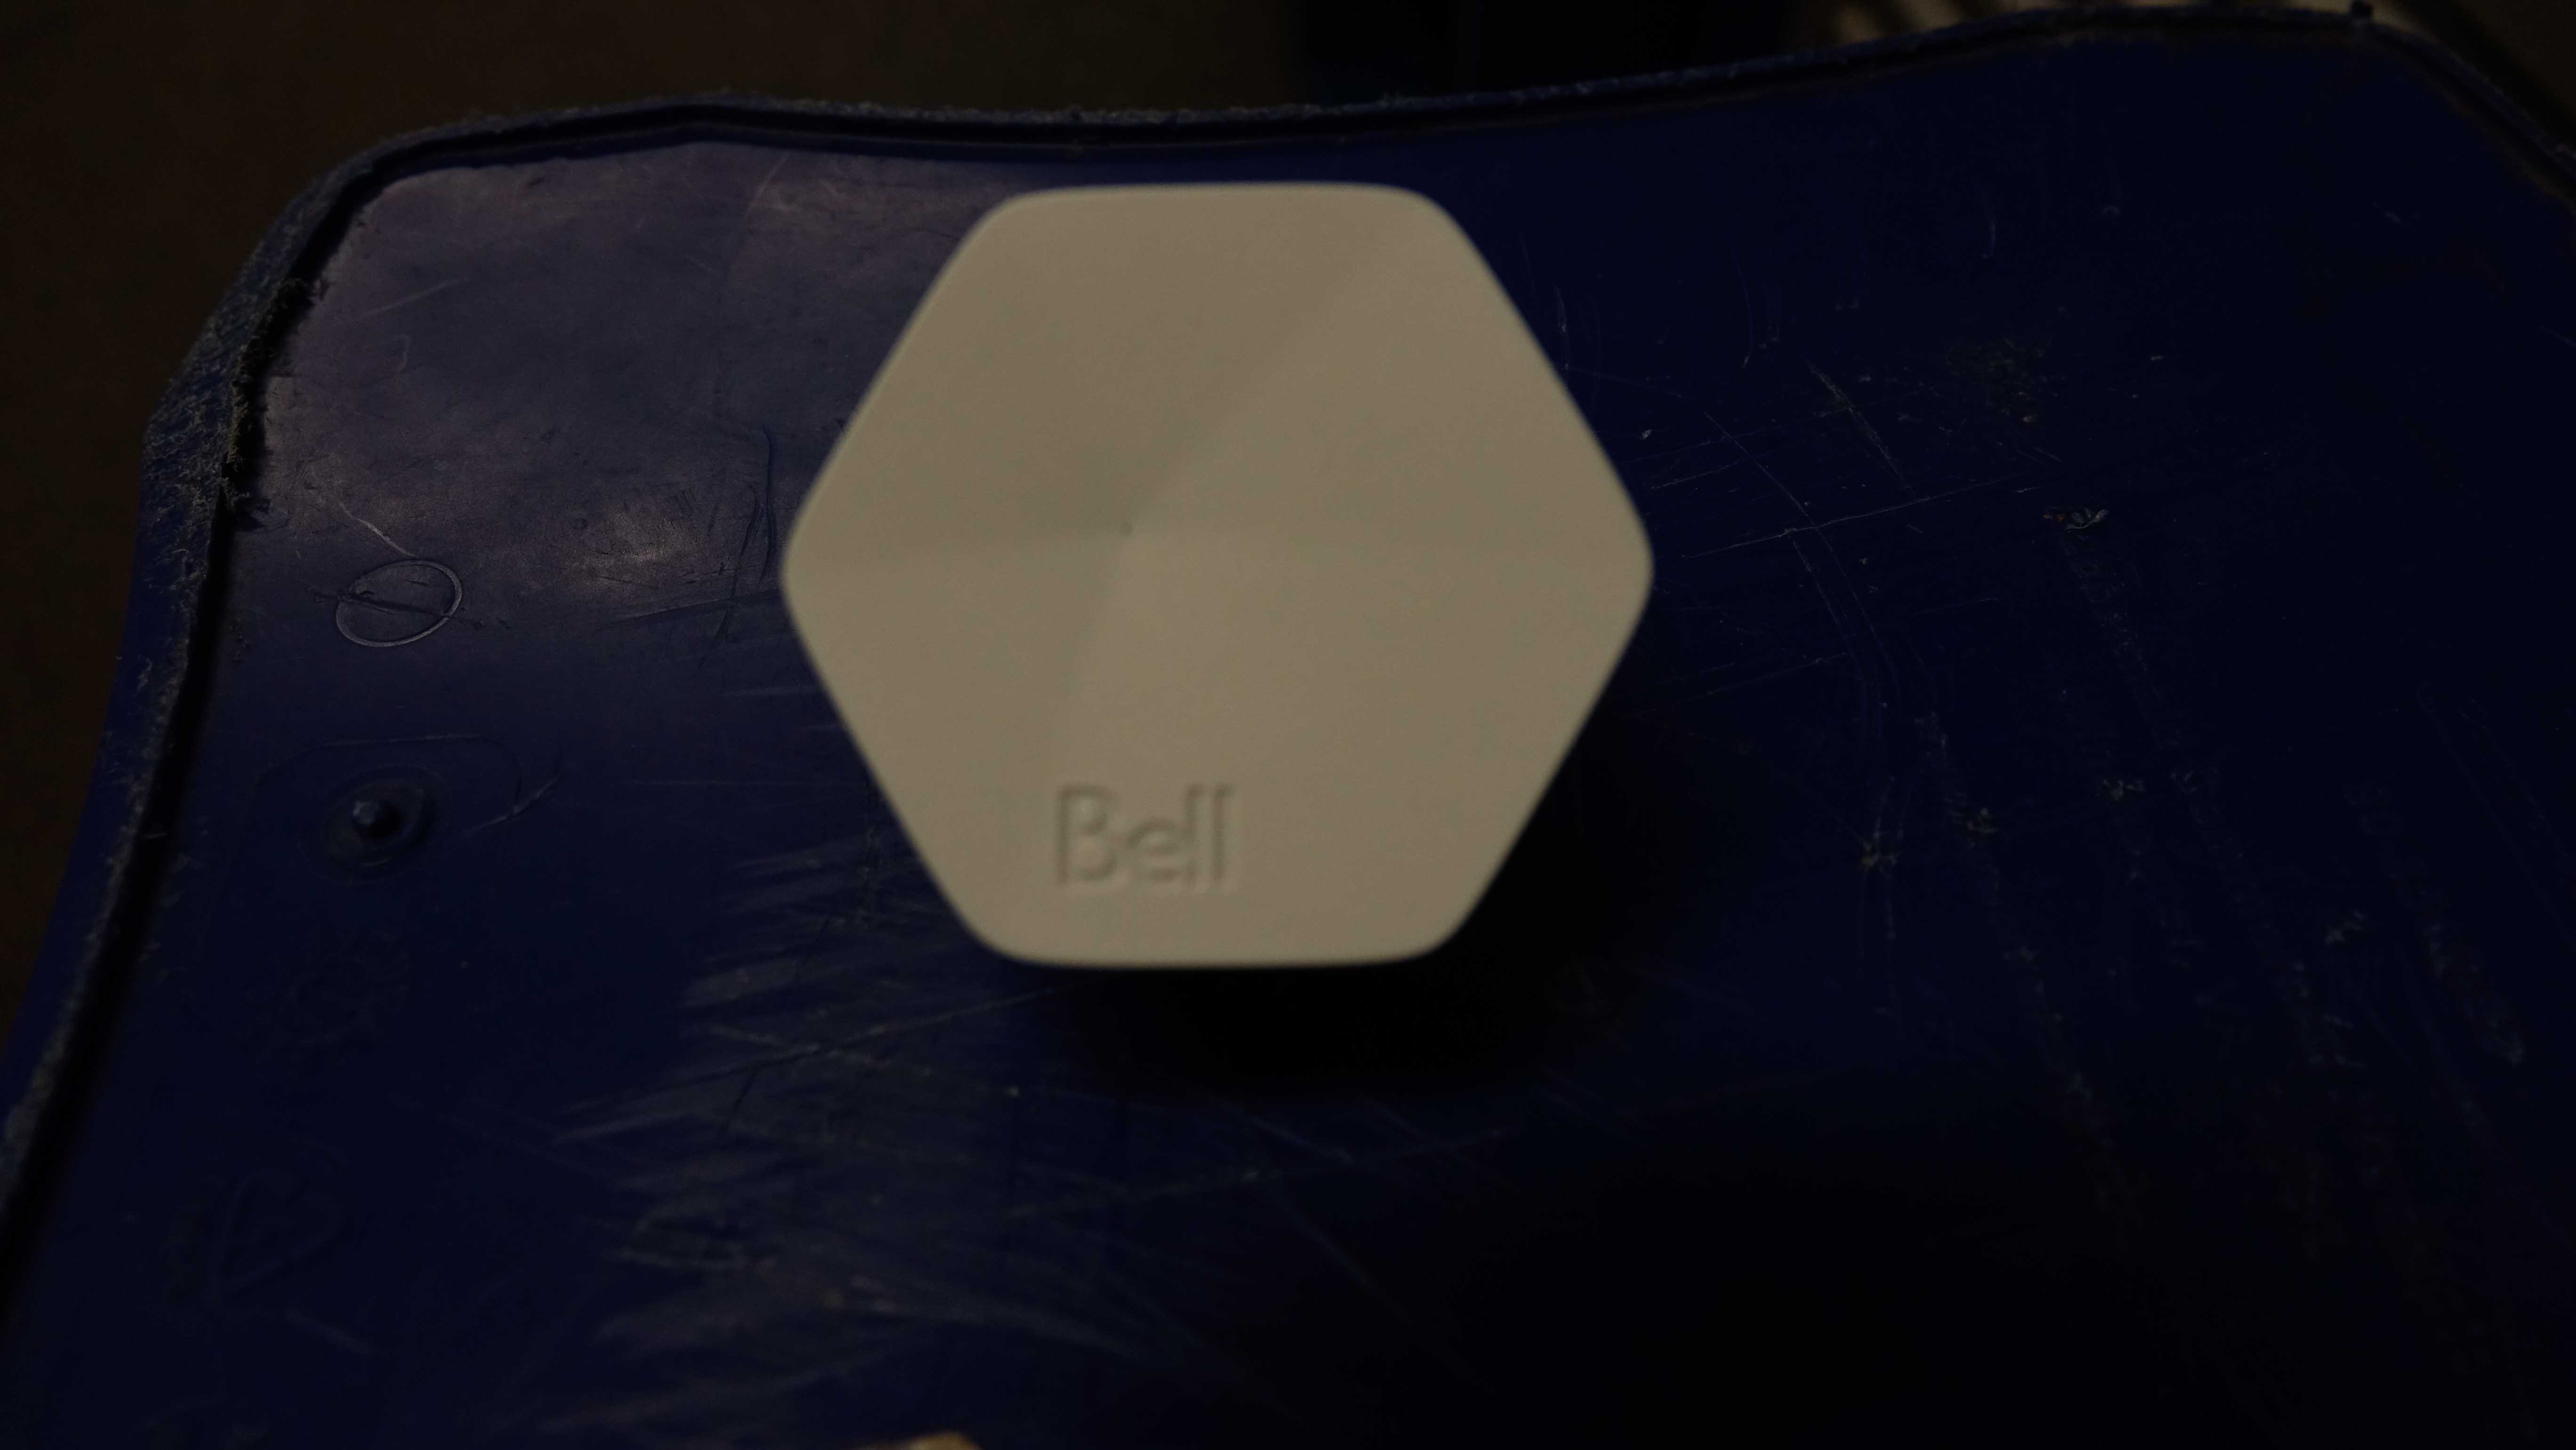pod: (761, 164, 1691, 988)
